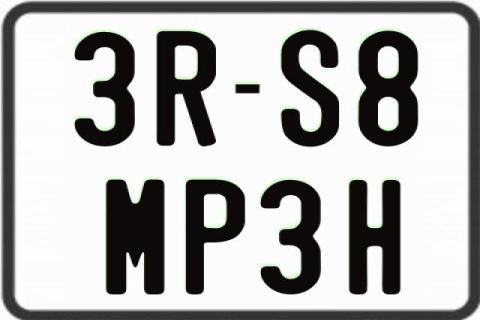0: (260, 177, 325, 293), (355, 31, 417, 149), (75, 30, 136, 148)
H: (348, 177, 404, 297)
M: (104, 179, 164, 296)
P: (186, 180, 251, 300)
R: (155, 31, 215, 148)
S: (280, 27, 344, 149)
